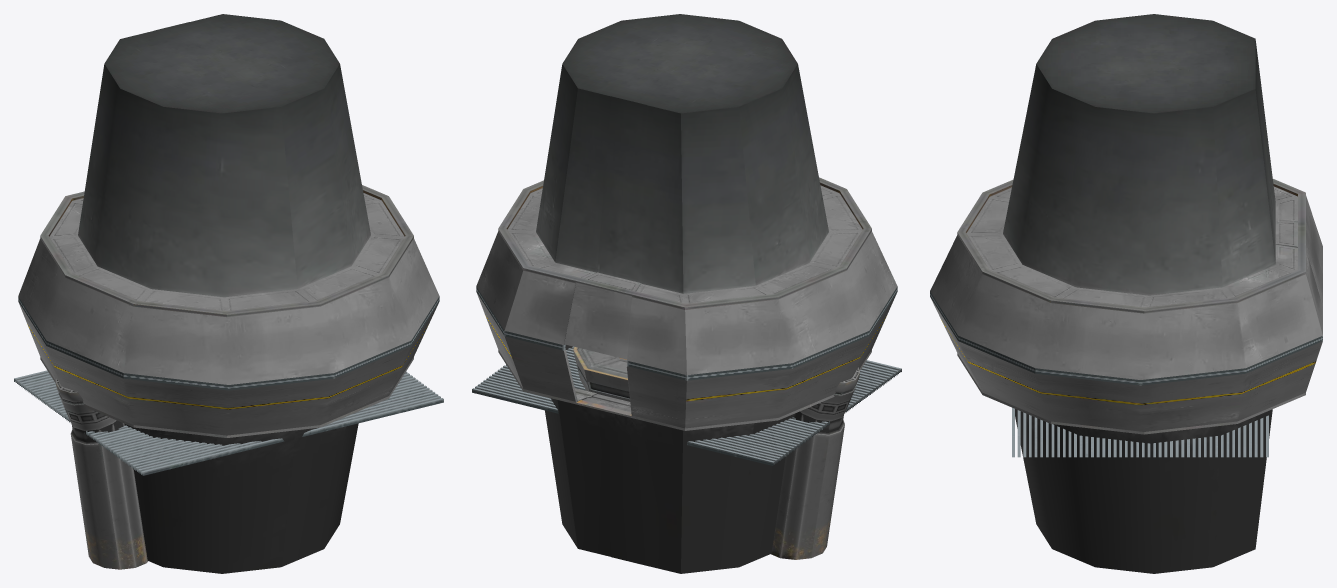
The model's file is chamber-512.glb.
The picture shows the model from 3 angles, left to right: view 1: azimuth 30°, elevation 25°; view 2: azimuth 150°, elevation 25°; view 3: azimuth 270°, elevation 25°; orthographic projection.
Parts seen in each view (by area): view 1: defaultMaterial (×9); view 2: defaultMaterial (×9); view 3: defaultMaterial (×8).
Boxes of the visible parts, <box> form: defaultMaterial (×9): <box>14,14,443,573</box>; defaultMaterial (×9): <box>472,14,901,573</box>; defaultMaterial (×8): <box>930,14,1322,573</box>.
Bounding box in the file's own units: 1353 × 1635 × 1262.
Materials: 12 (12 with a texture image).
